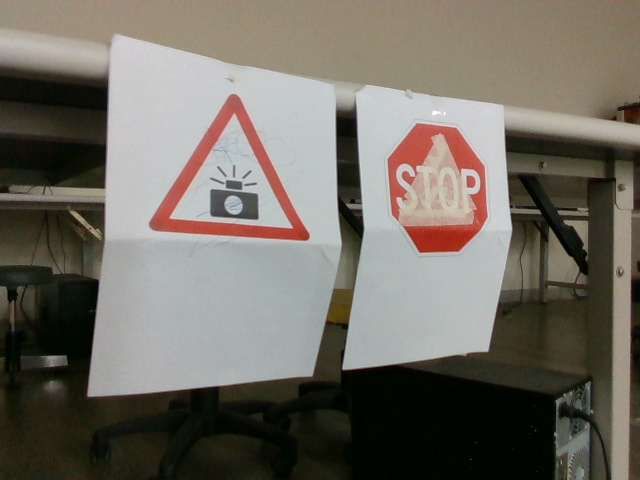camera: (157, 98, 313, 245)
stop: (390, 121, 490, 259)
